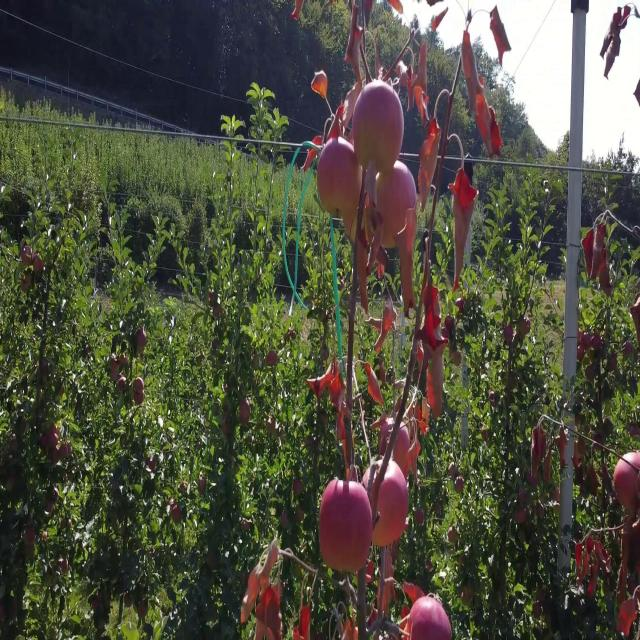apple: (356, 85, 404, 171), (316, 142, 366, 213), (340, 483, 375, 572), (352, 85, 388, 171), (328, 142, 365, 219), (376, 469, 409, 540), (420, 122, 447, 199), (320, 142, 352, 206), (380, 163, 416, 219), (338, 156, 365, 228), (352, 92, 374, 167), (380, 469, 409, 524), (320, 526, 350, 574), (412, 597, 443, 639), (400, 583, 423, 639), (372, 511, 404, 551), (345, 533, 372, 574), (456, 170, 479, 217), (352, 120, 374, 169), (380, 213, 407, 251), (492, 7, 510, 62), (364, 469, 382, 514), (616, 462, 636, 501), (412, 85, 431, 126), (393, 426, 411, 469), (468, 78, 487, 116), (392, 440, 412, 476), (420, 163, 436, 208), (376, 419, 394, 457), (476, 106, 496, 140), (424, 312, 442, 348), (344, 206, 362, 242), (320, 186, 339, 219), (328, 369, 345, 404), (436, 319, 455, 350), (488, 120, 504, 156), (620, 476, 637, 508), (456, 220, 470, 254), (312, 71, 328, 100), (428, 391, 444, 420), (532, 426, 548, 455), (436, 611, 452, 639), (248, 568, 262, 599), (308, 142, 324, 169), (424, 284, 440, 311), (556, 433, 568, 468), (396, 426, 411, 453), (584, 469, 599, 496), (256, 568, 270, 596), (432, 7, 447, 32), (132, 376, 144, 405), (264, 590, 279, 613), (576, 440, 588, 468), (308, 376, 323, 398), (268, 547, 280, 574), (588, 469, 600, 496), (256, 604, 267, 633), (396, 519, 411, 540), (268, 618, 283, 639), (620, 604, 637, 622), (240, 398, 252, 423), (136, 327, 148, 350), (528, 469, 540, 491), (452, 348, 464, 370), (584, 234, 596, 254), (244, 590, 259, 606), (256, 618, 267, 639), (60, 440, 72, 459), (504, 327, 515, 347), (600, 263, 611, 283), (320, 376, 330, 398), (24, 526, 36, 544), (520, 319, 532, 336), (172, 504, 182, 524), (296, 504, 305, 526), (536, 590, 548, 606), (596, 227, 607, 244), (260, 575, 271, 592), (516, 511, 528, 526), (600, 277, 612, 292), (412, 440, 421, 460), (592, 334, 603, 350), (588, 255, 596, 277), (576, 462, 584, 484), (616, 618, 627, 633), (448, 526, 457, 544), (112, 362, 120, 382), (52, 426, 60, 446), (632, 298, 640, 318), (276, 583, 284, 603), (632, 455, 640, 475), (392, 1, 404, 14), (244, 604, 251, 626), (40, 433, 48, 452), (208, 554, 218, 569), (256, 604, 266, 619), (464, 590, 474, 604), (24, 248, 32, 265), (52, 447, 60, 464), (600, 248, 608, 265), (8, 476, 17, 491), (544, 611, 553, 626), (40, 362, 49, 377), (200, 476, 207, 494), (140, 604, 148, 619), (520, 490, 528, 505), (24, 277, 32, 292), (296, 483, 304, 498), (36, 255, 44, 270), (208, 291, 216, 306), (456, 476, 464, 491), (588, 369, 596, 384), (588, 540, 596, 555), (536, 504, 544, 519), (268, 355, 277, 368), (584, 334, 592, 348), (636, 490, 640, 517), (536, 604, 543, 619), (120, 376, 127, 391), (148, 462, 156, 475), (60, 561, 68, 574), (224, 419, 230, 436), (284, 511, 289, 530), (216, 305, 223, 318), (636, 85, 640, 107), (120, 355, 128, 366), (580, 348, 585, 363), (612, 355, 617, 370), (28, 547, 36, 556), (12, 604, 16, 619), (48, 504, 53, 516), (96, 597, 100, 612), (44, 533, 48, 540)
